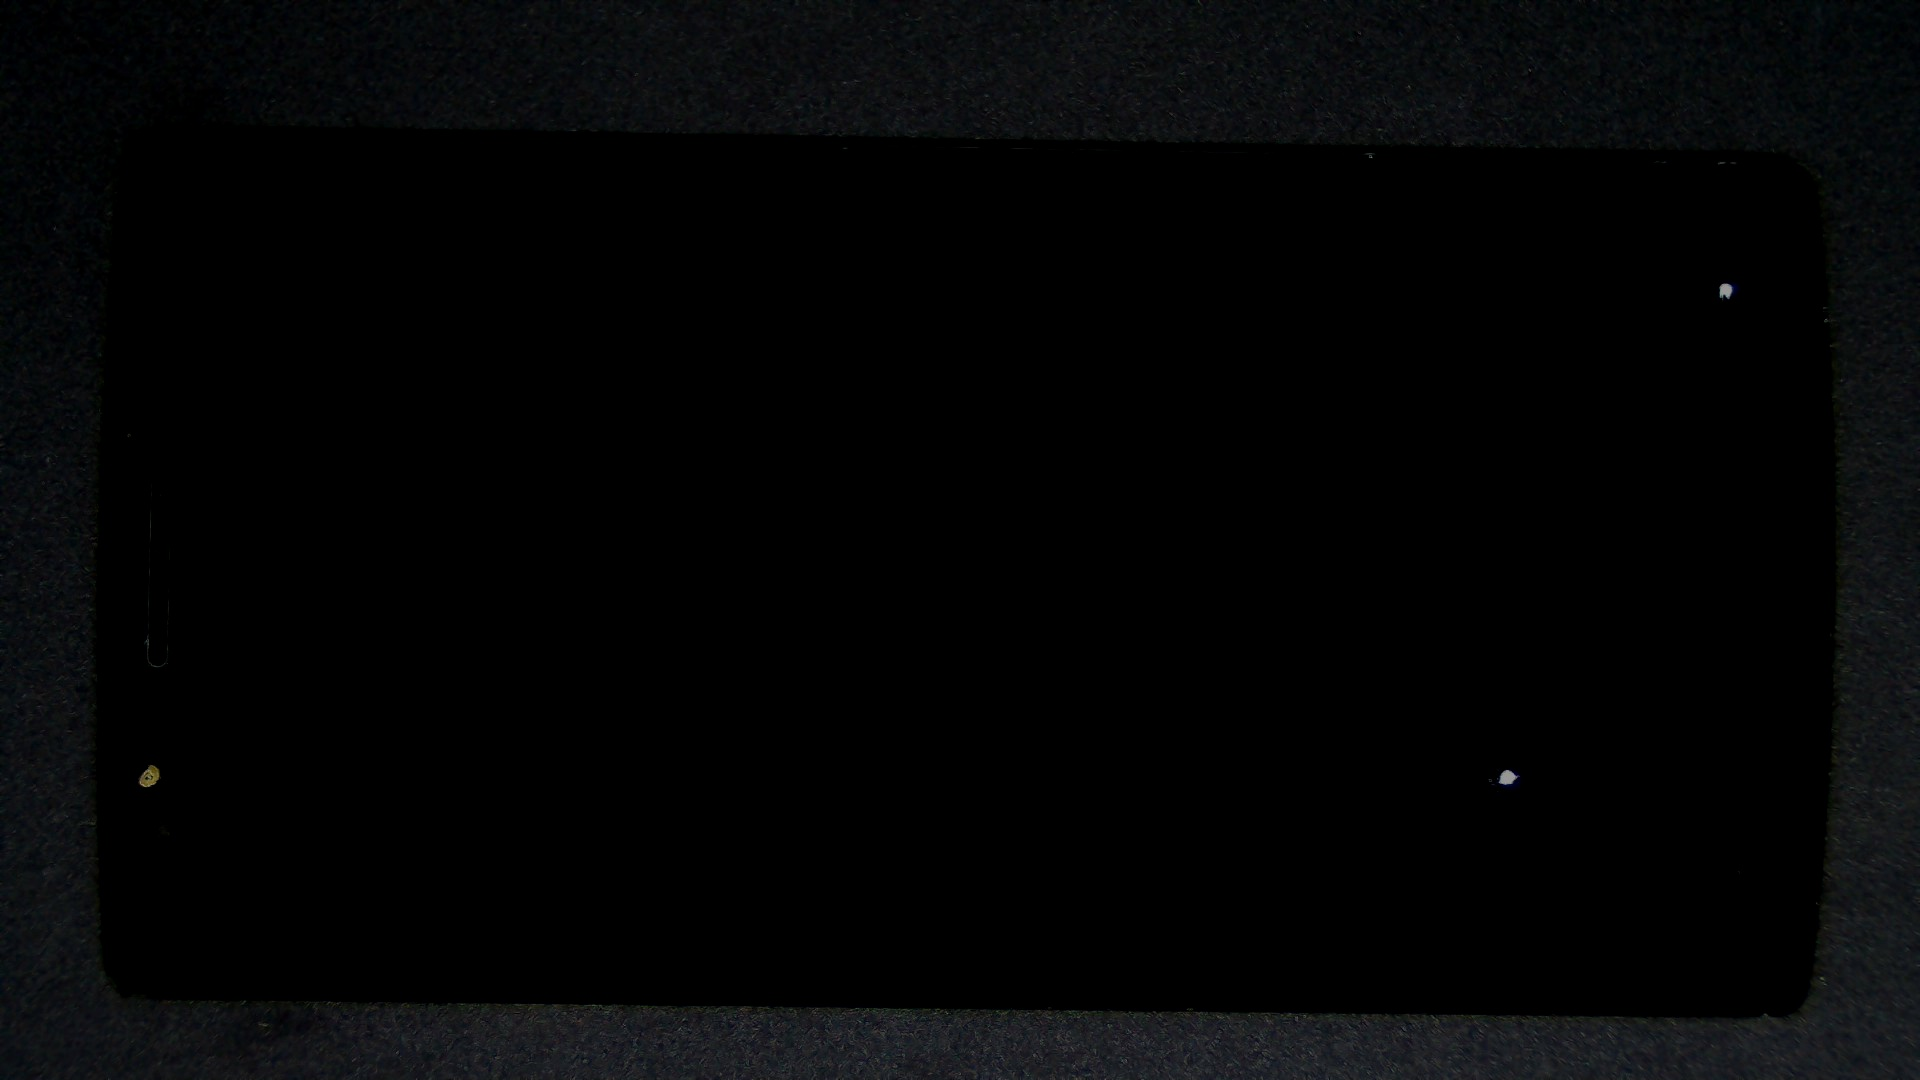oil: (753, 382, 1920, 1080), (865, 140, 1920, 422), (76, 381, 225, 1080)
